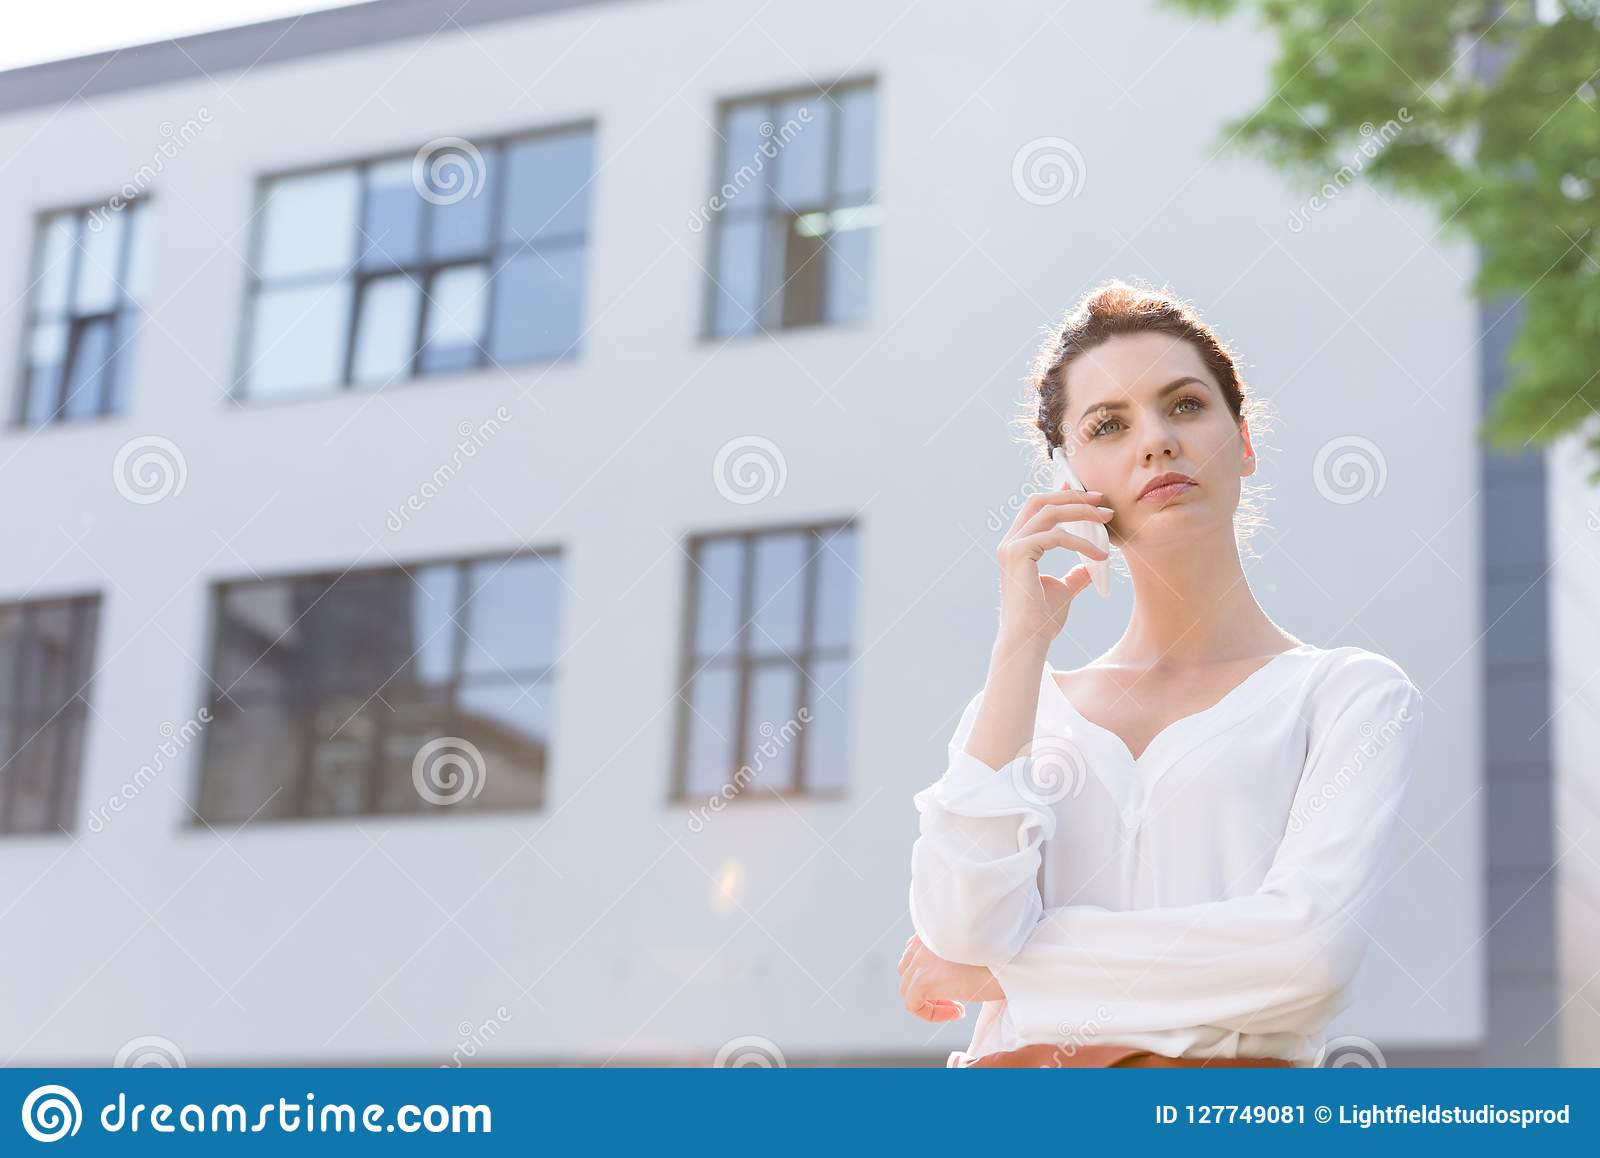phone: (1048, 445, 1116, 600)
talk: (988, 372, 1229, 670)
